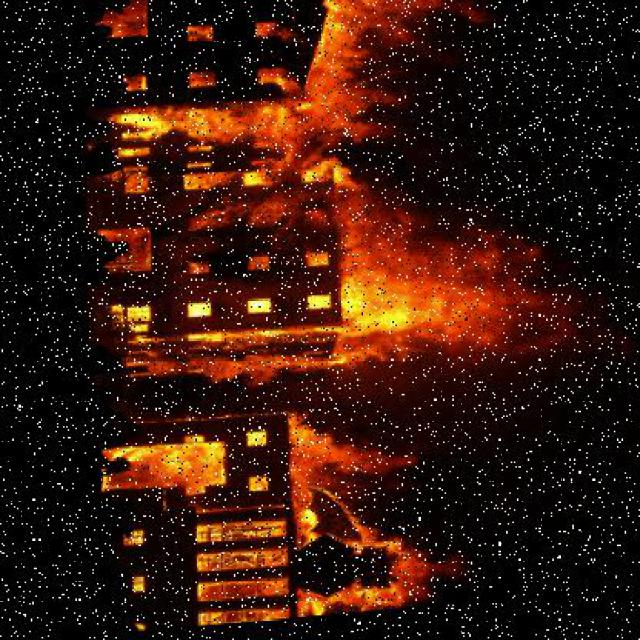fire: (147, 1, 578, 406)
